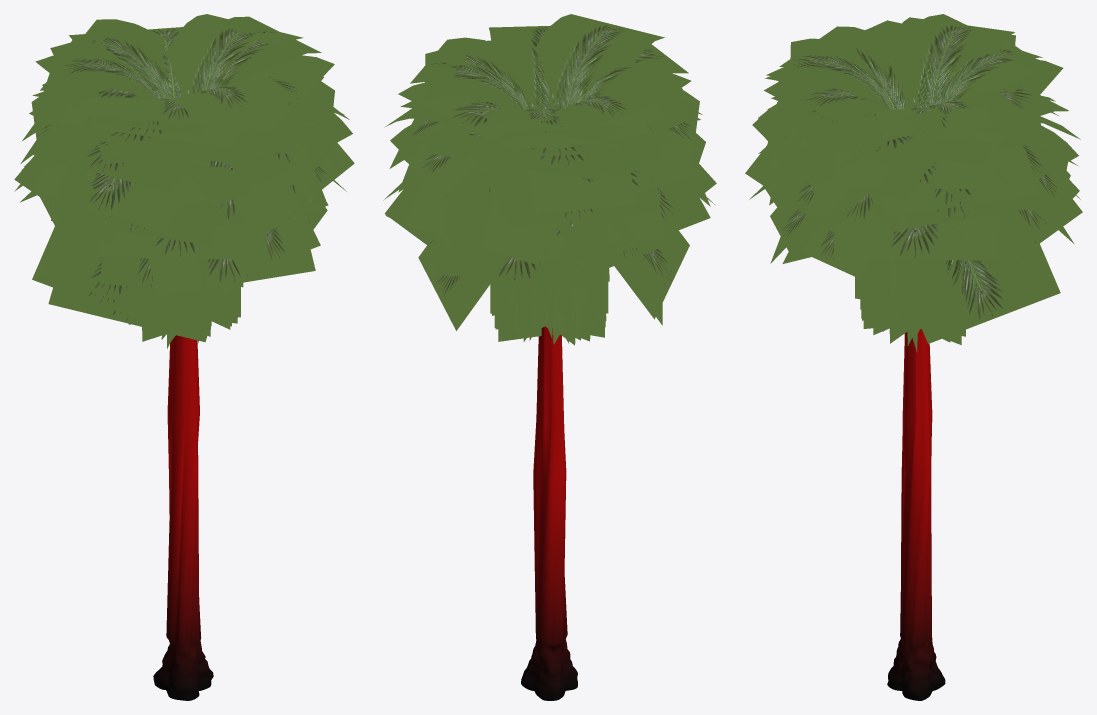
The model's file is Palm_1_9.fbx.
3 views of the same model, side by side, from view 1: azimuth 30°, elevation 25°; view 2: azimuth 150°, elevation 25°; view 3: azimuth 270°, elevation 25° (orthographic).
Parts seen in each view (by area): view 1: Palm_1_9; view 2: Palm_1_9; view 3: Palm_1_9.
Part boxes in pixels (bbox=[...]): Palm_1_9: bbox=[14, 14, 354, 700]; Palm_1_9: bbox=[383, 14, 716, 700]; Palm_1_9: bbox=[745, 14, 1082, 700].
Size of the model in its own units: 1843 by 3771 by 1852.
